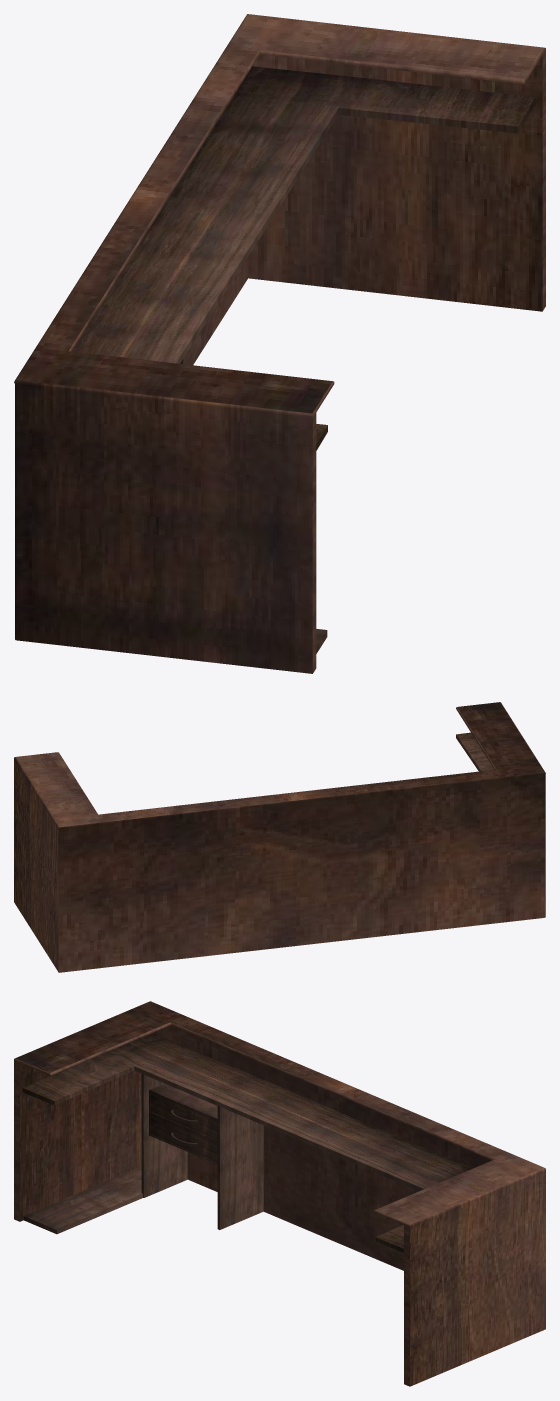
Rendered from reception_table.glb.
The picture shows the model from 3 angles, top to bottom: view 1: azimuth 30°, elevation 25°; view 2: azimuth 150°, elevation 25°; view 3: azimuth 270°, elevation 25°; orthographic projection. The views are drawn at different scales.
Visible parts, largest first — view 1: Cube.005, Plane; view 2: Cube.005, Plane; view 3: Cube.005, Plane, Cube.011, Cube.008.
Part boxes in pixels (x1=…): Cube.005: x1=14, y1=14, x2=545, y2=673; Plane: x1=71, y1=66, x2=535, y2=450; Cube.005: x1=14, y1=702, x2=545, y2=972; Plane: x1=456, y1=732, x2=494, y2=771; Cube.005: x1=14, y1=1001, x2=545, y2=1386; Plane: x1=22, y1=1033, x2=472, y2=1252; Cube.011: x1=141, y1=1074, x2=263, y2=1229; Cube.008: x1=23, y1=1166, x2=142, y2=1234.
Bounding box in the file's own units: 3.37 × 1.13 × 3.37.
3 materials, 3 textured.
